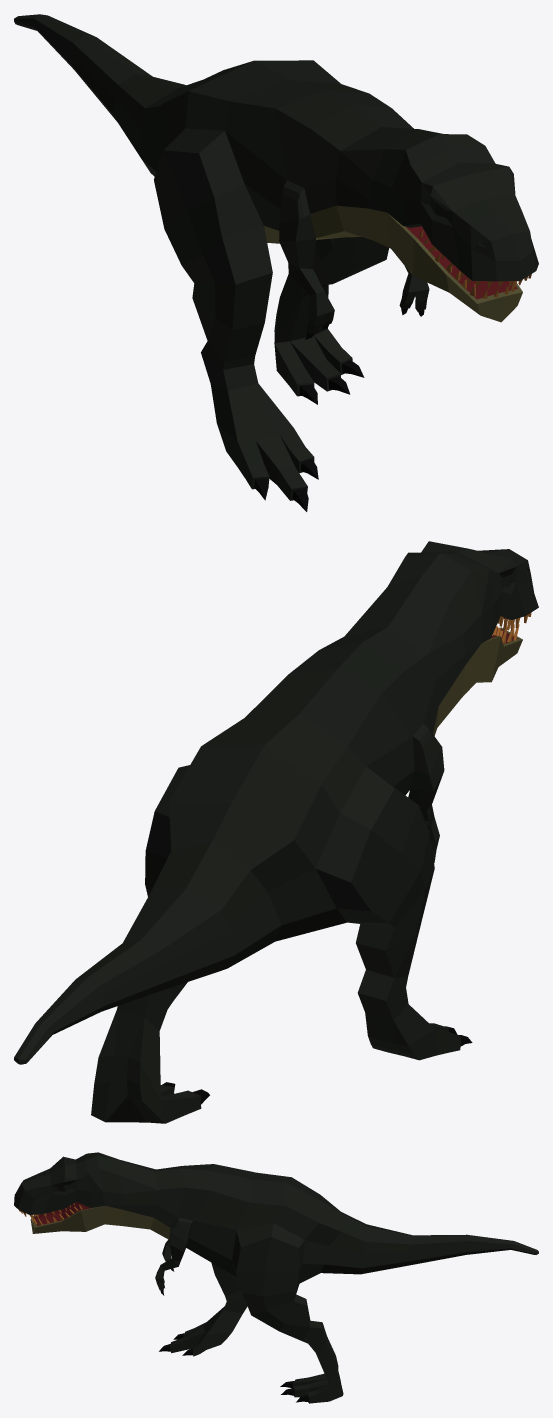
File: Trex_000014.obj
The picture shows the model from 3 angles, top to bottom: view 1: azimuth 30°, elevation 25°; view 2: azimuth 150°, elevation 25°; view 3: azimuth 270°, elevation 25°; orthographic projection. The views are drawn at different scales.
Visible parts, largest first — view 1: Trex_Cylinder; view 2: Trex_Cylinder; view 3: Trex_Cylinder.
Part boxes in pixels (x1,y1,x2,y2): Trex_Cylinder: (14,14,538,511); Trex_Cylinder: (14,541,538,1123); Trex_Cylinder: (14,1152,538,1403).
Size of the model in its own units: 8.15 by 14.44 by 31.39.
